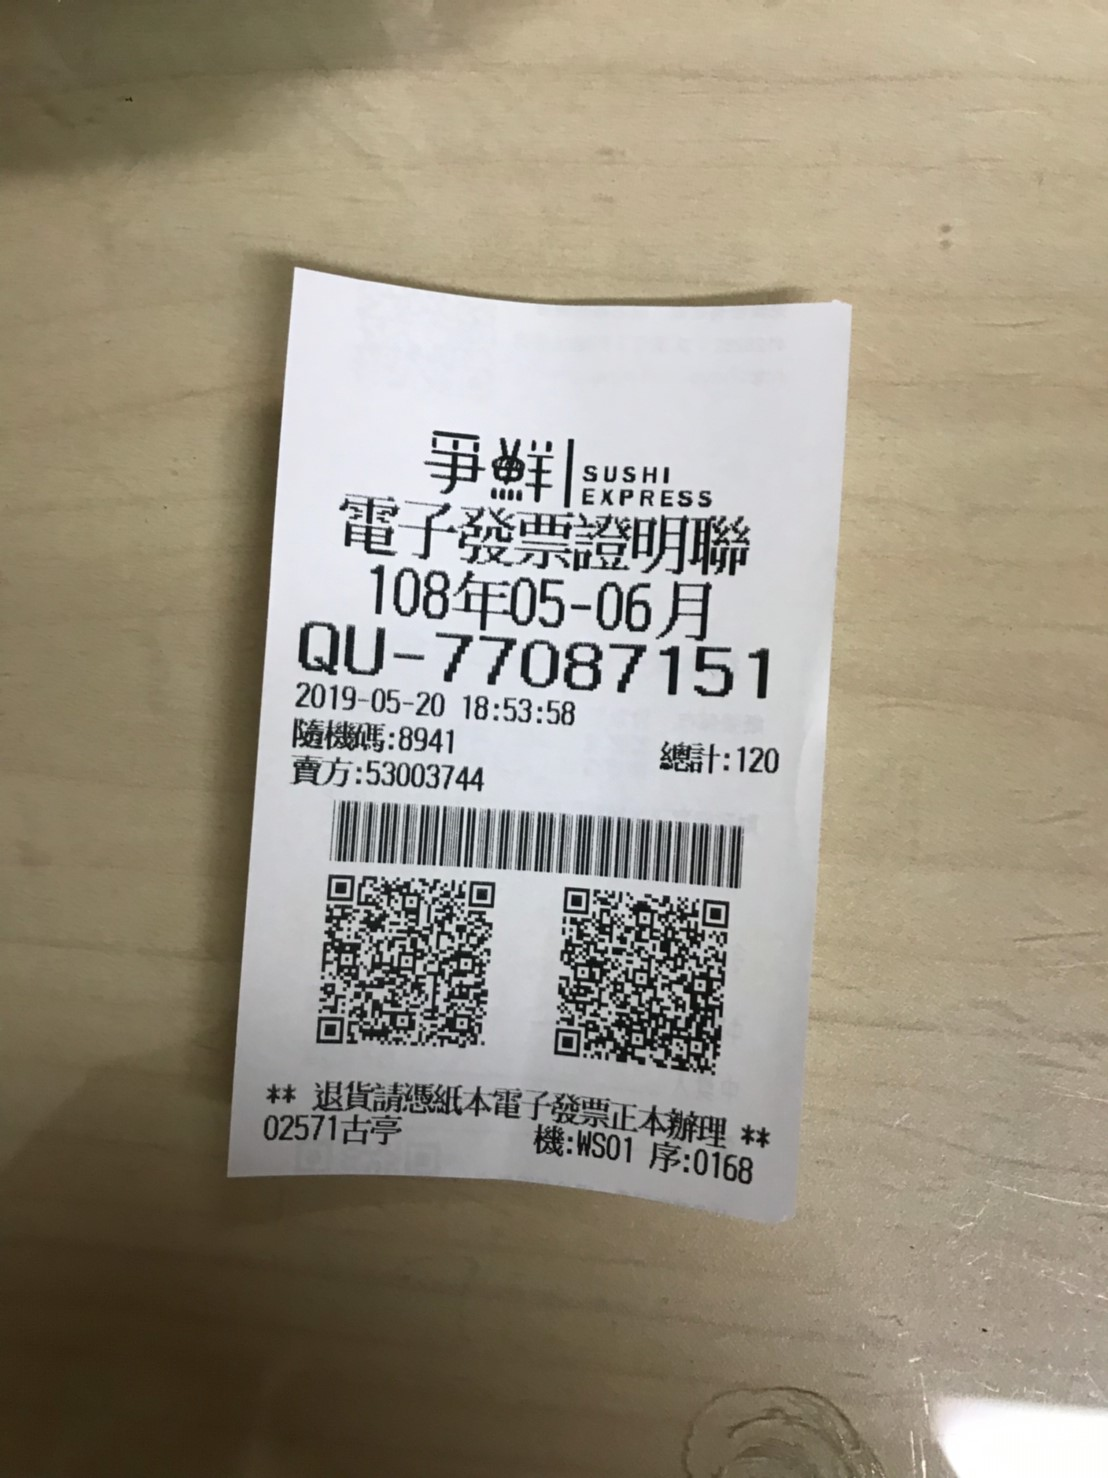Date_New: (370, 556, 719, 644)
Number_New: (434, 625, 772, 696)
